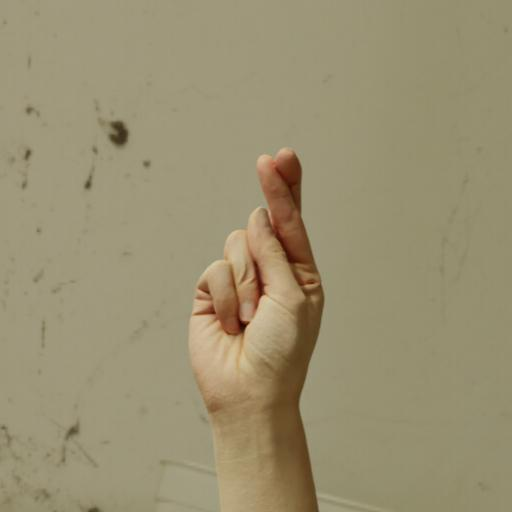R: (178, 130, 348, 509)
